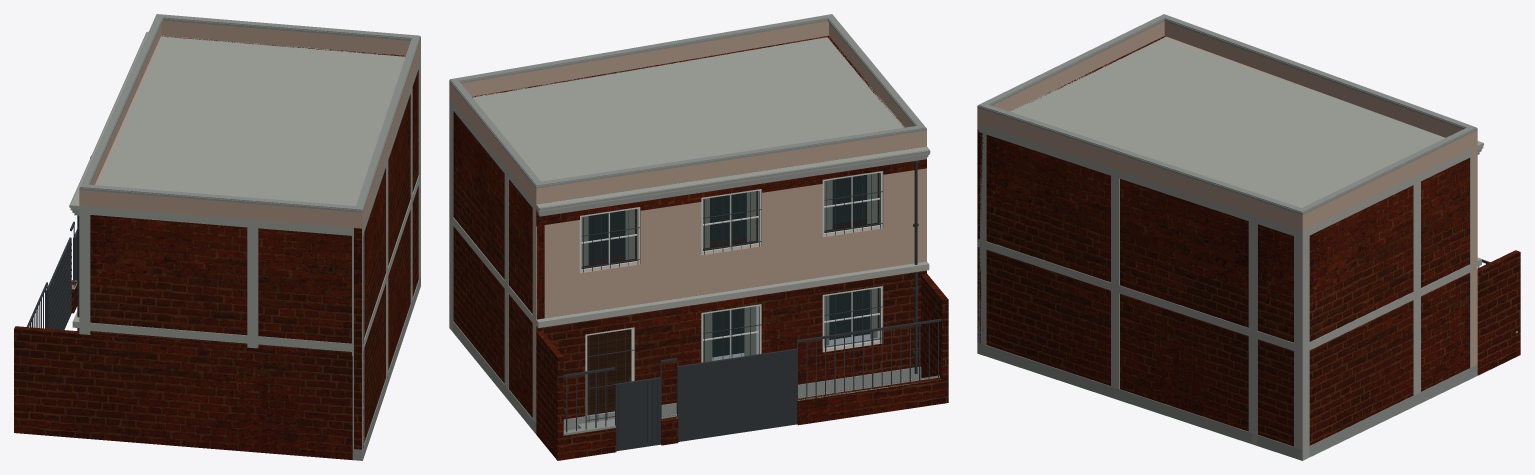
File: building.glb
3 renders of one model, left to right at view 1: azimuth 30°, elevation 25°; view 2: azimuth 150°, elevation 25°; view 3: azimuth 270°, elevation 25°, orthographic.
Parts seen in each view (by area): view 1: roof/main:0/roof_slab#0001, site/fence/0/wall#0001, main:0/edge0/z0/main:0/edge0/z0/wall_0_0/core0, main:0/edge1/z0/main:0/edge1/z0/wall_0_0/core0, roof/main:0/parapet#0001, roof/main:0/parapet_cap#0002, roof/main:0/parapet_cap#0001, main:0/edge0/z0/main:0/edge0/z0/beam_0_0/core0, main:0/edge1/z0/main:0/edge1/z0/wall_0_0/clip1, site/fence/2/garage_door#0001, main:0/edge0/z0/main:0/edge0/z0/beam_1_0/core0, main:0/edge0/z0/main:0/edge0/z0/column_0_0 (+4 smaller); view 2: roof/main:0/roof_slab#0001, main:0/edge3/z0/main:0/edge3/z0/wall_0_0/core0, main:0/edge3/z0/main:0/edge3/z0/coating_0_0_0, main:0/edge2/z0/main:0/edge2/z0/wall_0_0, roof/main:0/parapet#0001, site/fence/2/garage_door#0001, roof/main:0/parapet_cap#0002, site/fence/2/boundary_base#0003, main:0/edge3/z0/floor_slab#0001, main:0/edge3/z0/main:0/edge3/z0/coating_0_1_0, site/fence/1/wall#0001, roof/main:0/parapet_cap#0001 (+38 smaller); view 3: main:0/edge1/z0/main:0/edge1/z0/wall_0_0/core0, roof/main:0/roof_slab#0001, main:0/edge2/z0/main:0/edge2/z0/wall_0_0, roof/main:0/parapet#0001, roof/main:0/parapet_cap#0002, site/fence/1/wall#0001, main:0/edge1/z0/plinth#0001, roof/main:0/parapet_cap#0001, main:0/edge1/z0/main:0/edge1/z0/beam_0_0/core0, main:0/edge2/z0/plinth#0001, main:0/edge1/z0/main:0/edge1/z0/beam_1_0/core0, main:0/edge2/z0/main:0/edge2/z0/beam_0_0 (+15 smaller).
Part boxes in pixels (box(x1,y1,x2,y2)): roof/main:0/roof_slab#0001: box(79, 35, 420, 233); site/fence/0/wall#0001: box(14, 326, 352, 459); main:0/edge0/z0/main:0/edge0/z0/wall_0_0/core0: box(90, 215, 351, 355); main:0/edge1/z0/main:0/edge1/z0/wall_0_0/core0: box(364, 69, 418, 442); roof/main:0/parapet#0001: box(79, 20, 420, 228); roof/main:0/parapet_cap#0002: box(80, 14, 419, 210); roof/main:0/parapet_cap#0001: box(79, 14, 420, 212); main:0/edge0/z0/main:0/edge0/z0/beam_0_0/core0: box(79, 322, 353, 351); main:0/edge1/z0/main:0/edge1/z0/wall_0_0/clip1: box(354, 228, 361, 449); site/fence/2/garage_door#0001: box(46, 237, 71, 329); main:0/edge0/z0/main:0/edge0/z0/beam_1_0/core0: box(79, 206, 353, 235); main:0/edge0/z0/main:0/edge0/z0/column_0_0: box(79, 214, 90, 322); roof/main:0/roof_slab#0001: box(449, 37, 904, 203); main:0/edge3/z0/main:0/edge3/z0/wall_0_0/core0: box(544, 168, 926, 352); main:0/edge3/z0/main:0/edge3/z0/coating_0_0_0: box(536, 270, 926, 419); main:0/edge2/z0/main:0/edge2/z0/wall_0_0: box(453, 111, 544, 417); roof/main:0/parapet#0001: box(449, 21, 926, 204); site/fence/2/garage_door#0001: box(676, 348, 797, 441); roof/main:0/parapet_cap#0002: box(450, 14, 925, 185); site/fence/2/boundary_base#0003: box(797, 377, 948, 425); main:0/edge3/z0/floor_slab#0001: box(536, 261, 929, 327); main:0/edge3/z0/main:0/edge3/z0/coating_0_1_0: box(536, 159, 926, 226); site/fence/1/wall#0001: box(536, 330, 563, 460); roof/main:0/parapet_cap#0001: box(449, 18, 926, 188); main:0/edge1/z0/main:0/edge1/z0/wall_0_0/core0: box(986, 134, 1293, 446); roof/main:0/roof_slab#0001: box(977, 37, 1470, 234); main:0/edge2/z0/main:0/edge2/z0/wall_0_0: box(1309, 158, 1469, 445); roof/main:0/parapet#0001: box(977, 21, 1477, 230); roof/main:0/parapet_cap#0002: box(978, 14, 1476, 212); site/fence/1/wall#0001: box(1477, 250, 1520, 375); main:0/edge1/z0/plinth#0001: box(977, 342, 1302, 460); roof/main:0/parapet_cap#0001: box(977, 19, 1477, 214); main:0/edge1/z0/main:0/edge1/z0/beam_0_0/core0: box(977, 239, 1302, 353); main:0/edge2/z0/plinth#0001: box(1302, 365, 1477, 458); main:0/edge1/z0/main:0/edge1/z0/beam_1_0/core0: box(978, 130, 1302, 238); main:0/edge2/z0/main:0/edge2/z0/beam_0_0: box(1302, 264, 1471, 353).
Bounding box in the file's own units: 11.9 × 6.39 × 12.42.
10 materials, 2 textured.
